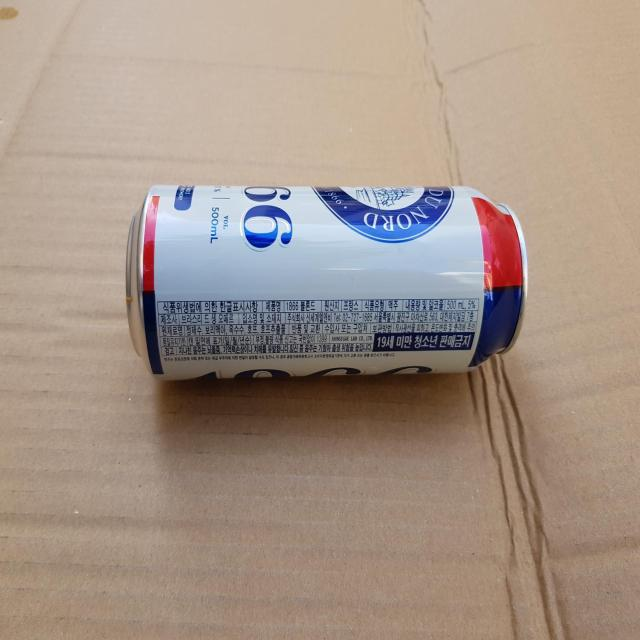can: (125, 185, 528, 380)
